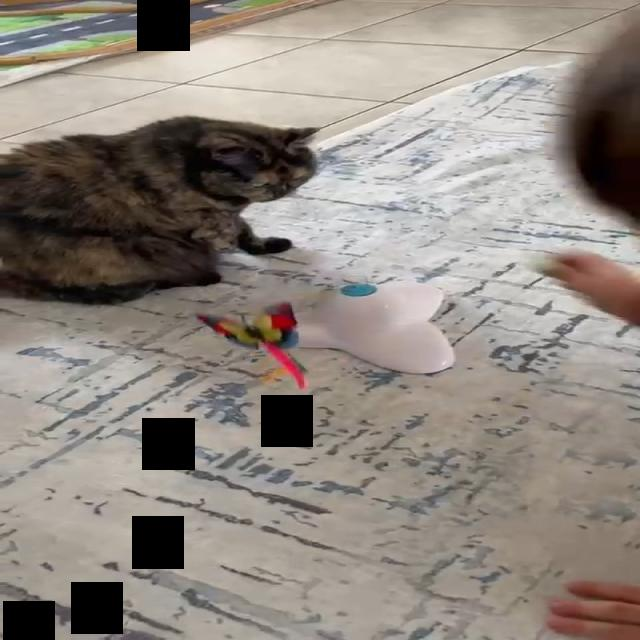authorized: (0, 114, 321, 305)
